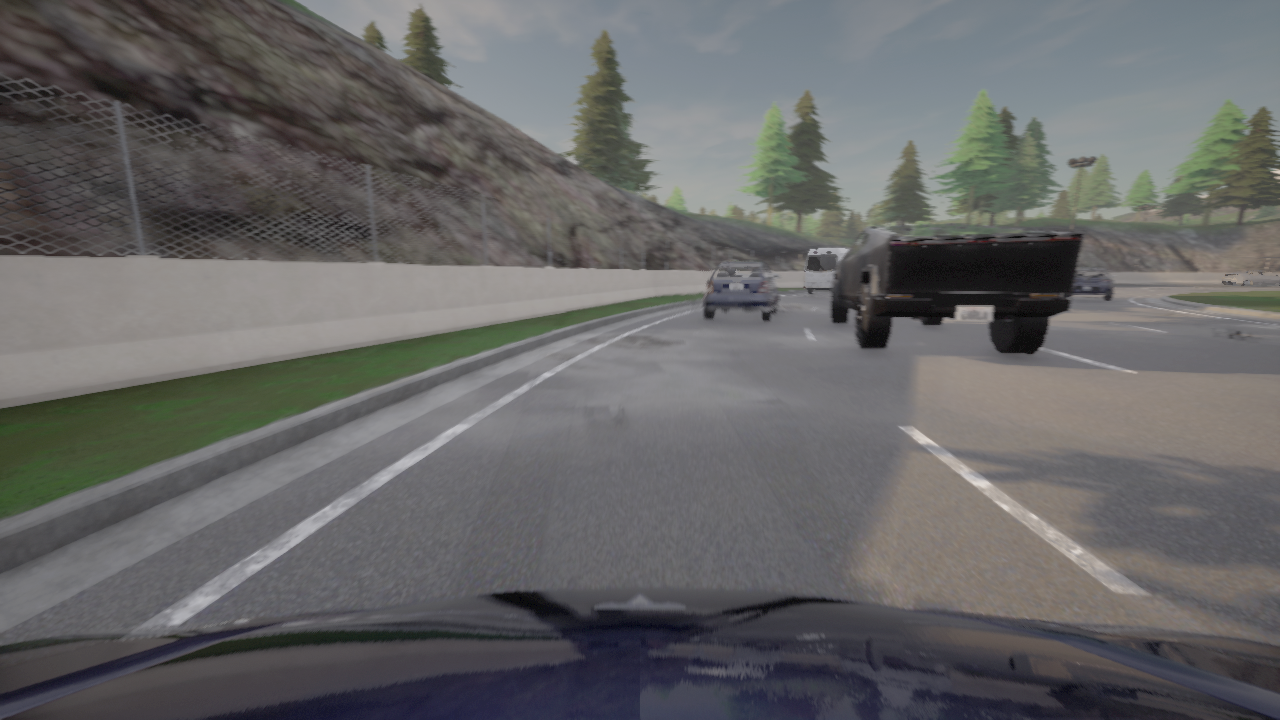cyclist: (0, 588, 1279, 719), (830, 224, 1083, 355), (703, 260, 779, 321), (803, 247, 849, 294), (1062, 268, 1115, 299), (1221, 271, 1279, 286)
